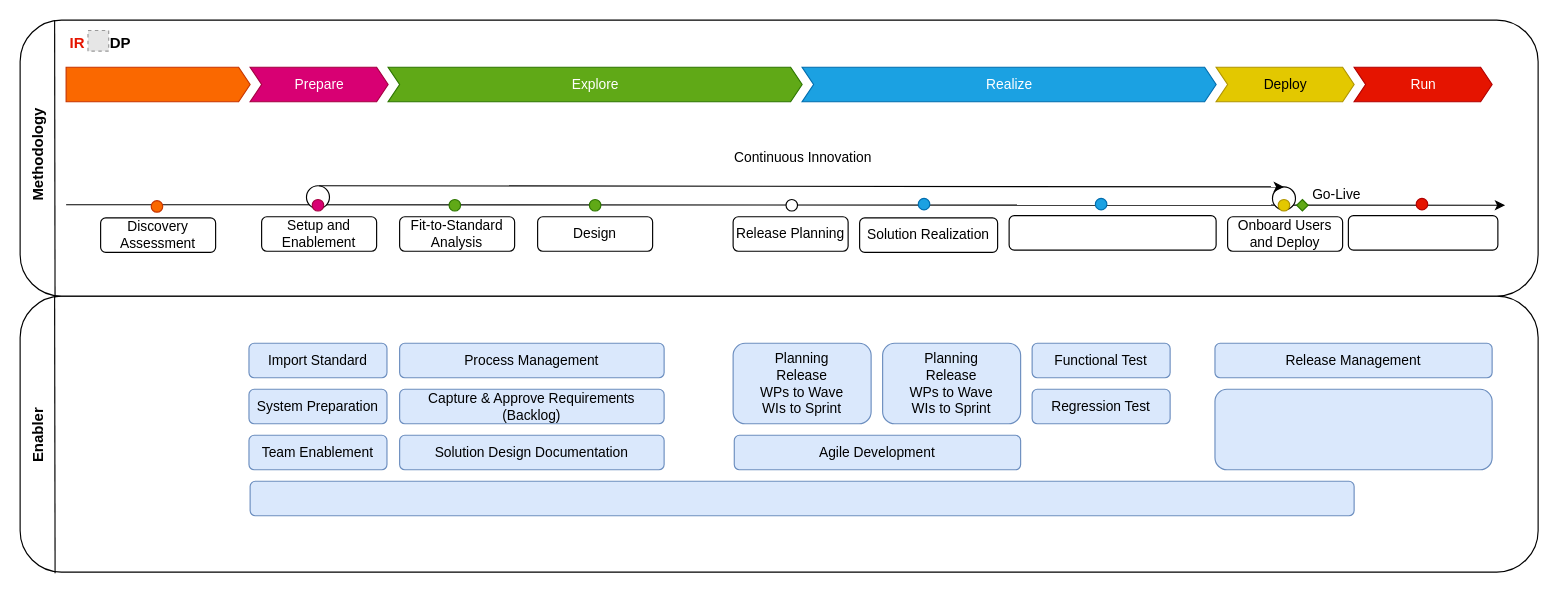
This 1558x595 diagram has some shape labels left out. Grey dashed boxes stand in for pictures. Here are the shapes that lost their labels. From the top down, the box of each, then its label:
(65, 66, 250, 102): Discover
(1008, 214, 1216, 250): Migrate, Intergrate,Extend, Test
(1347, 214, 1498, 250): Operate, Maintain, Support, Innovate
(1214, 388, 1492, 470): Support of Urgent and Standard Changes in Hypercare and Operations
(249, 480, 1354, 516): Project Management
